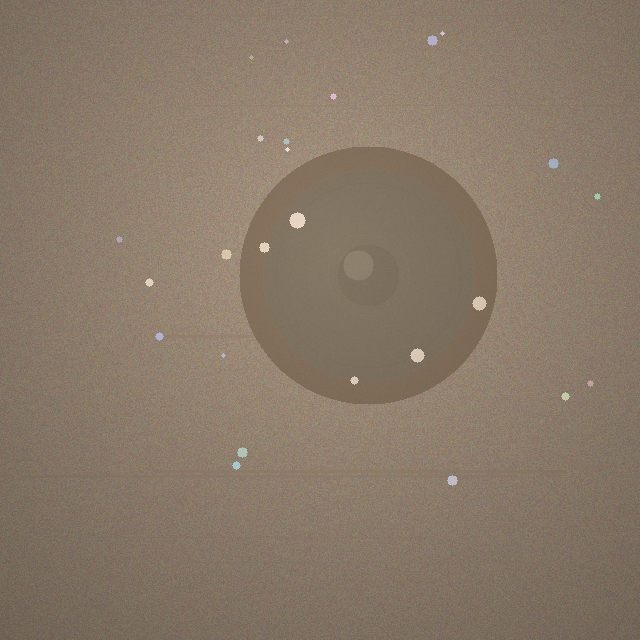overburn: (239, 146, 497, 404)
